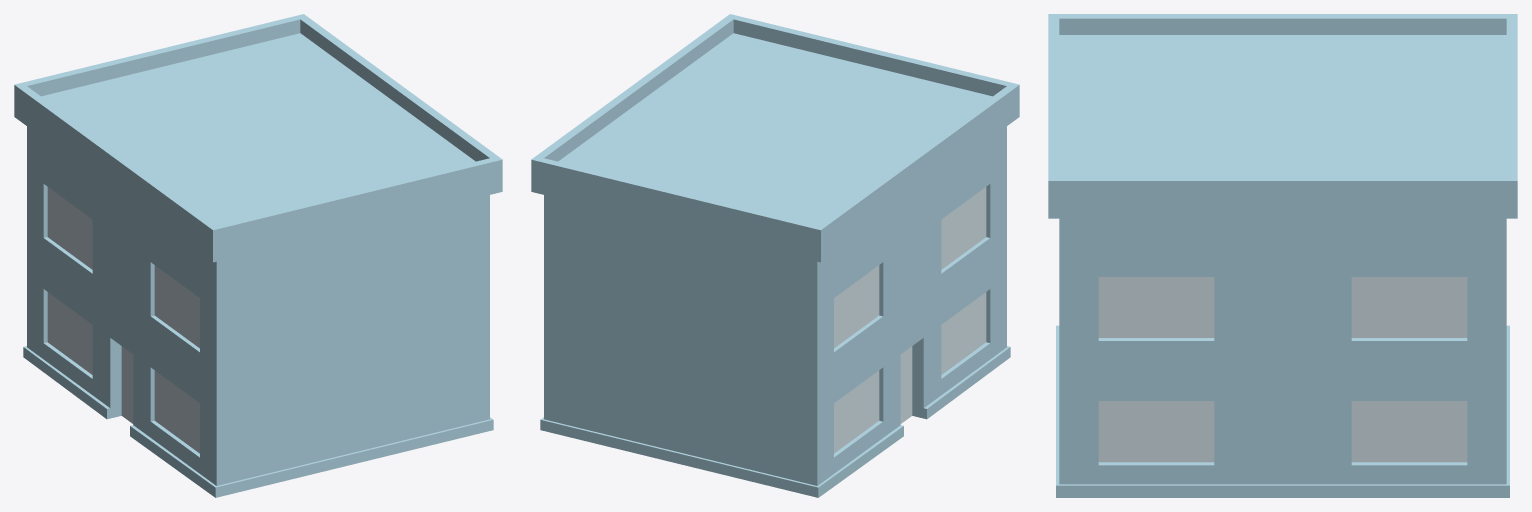
File: sptp_building_01.FBX
3 renders of one model, left to right at view 1: azimuth 30°, elevation 25°; view 2: azimuth 150°, elevation 25°; view 3: azimuth 270°, elevation 25°, orthographic. The views are drawn at different scales.
Visible parts, largest first — view 1: sptp_building_01; view 2: sptp_building_01; view 3: sptp_building_01.
Boxes of the visible parts, x1=… form: sptp_building_01: x1=14, y1=14, x2=502, y2=497; sptp_building_01: x1=531, y1=14, x2=1019, y2=497; sptp_building_01: x1=1048, y1=14, x2=1517, y2=497.
Size of the model in its own units: 3.18 by 2.84 by 3.78.
